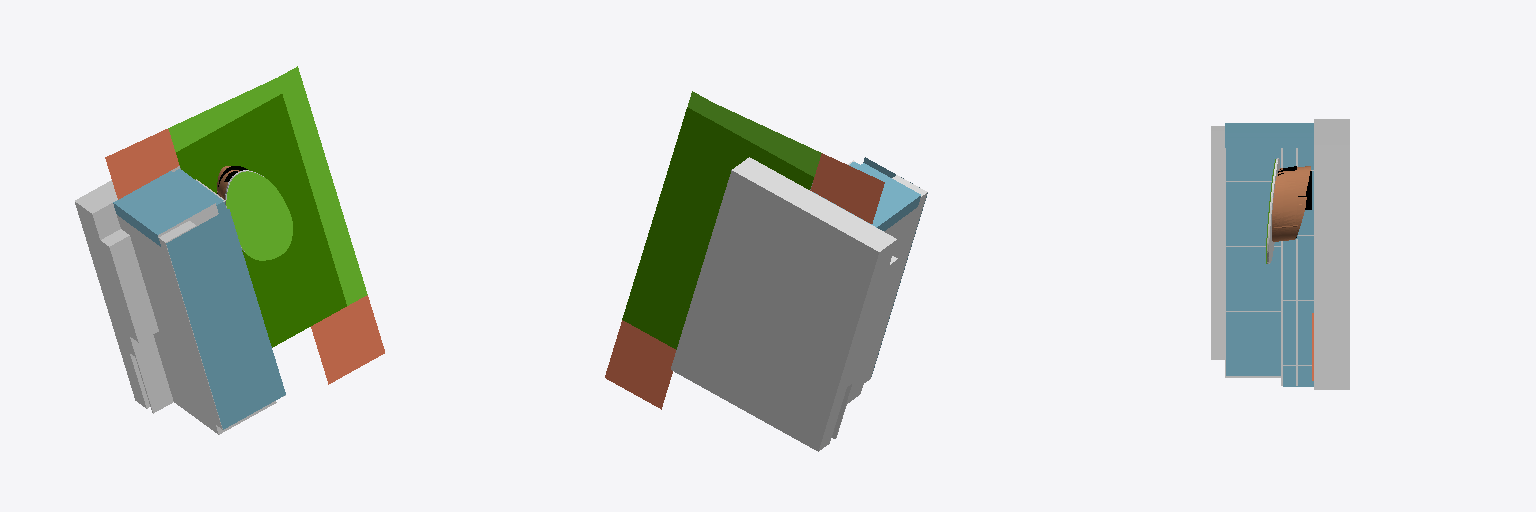
The model's file is opt3-3.obj.
3 renders of one model, left to right at view 1: azimuth 30°, elevation 25°; view 2: azimuth 150°, elevation 25°; view 3: azimuth 270°, elevation 25°, orthographic.
Size of the model in its own units: 340 by 361 by 141.